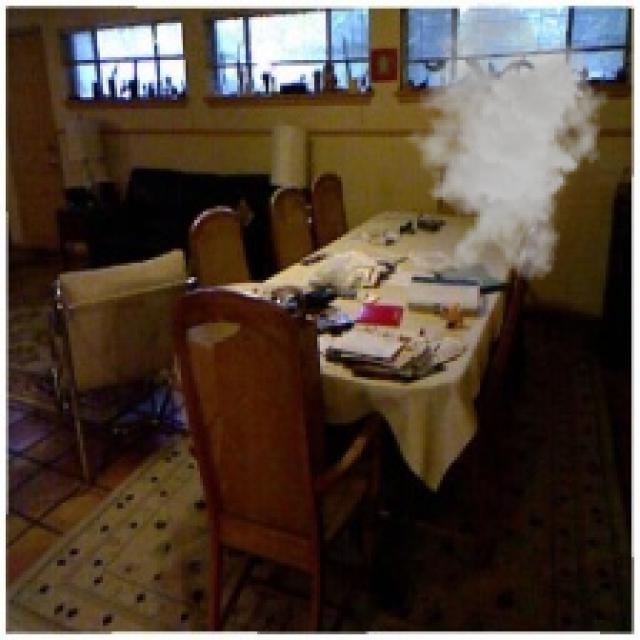smoke: (394, 3, 609, 283)
